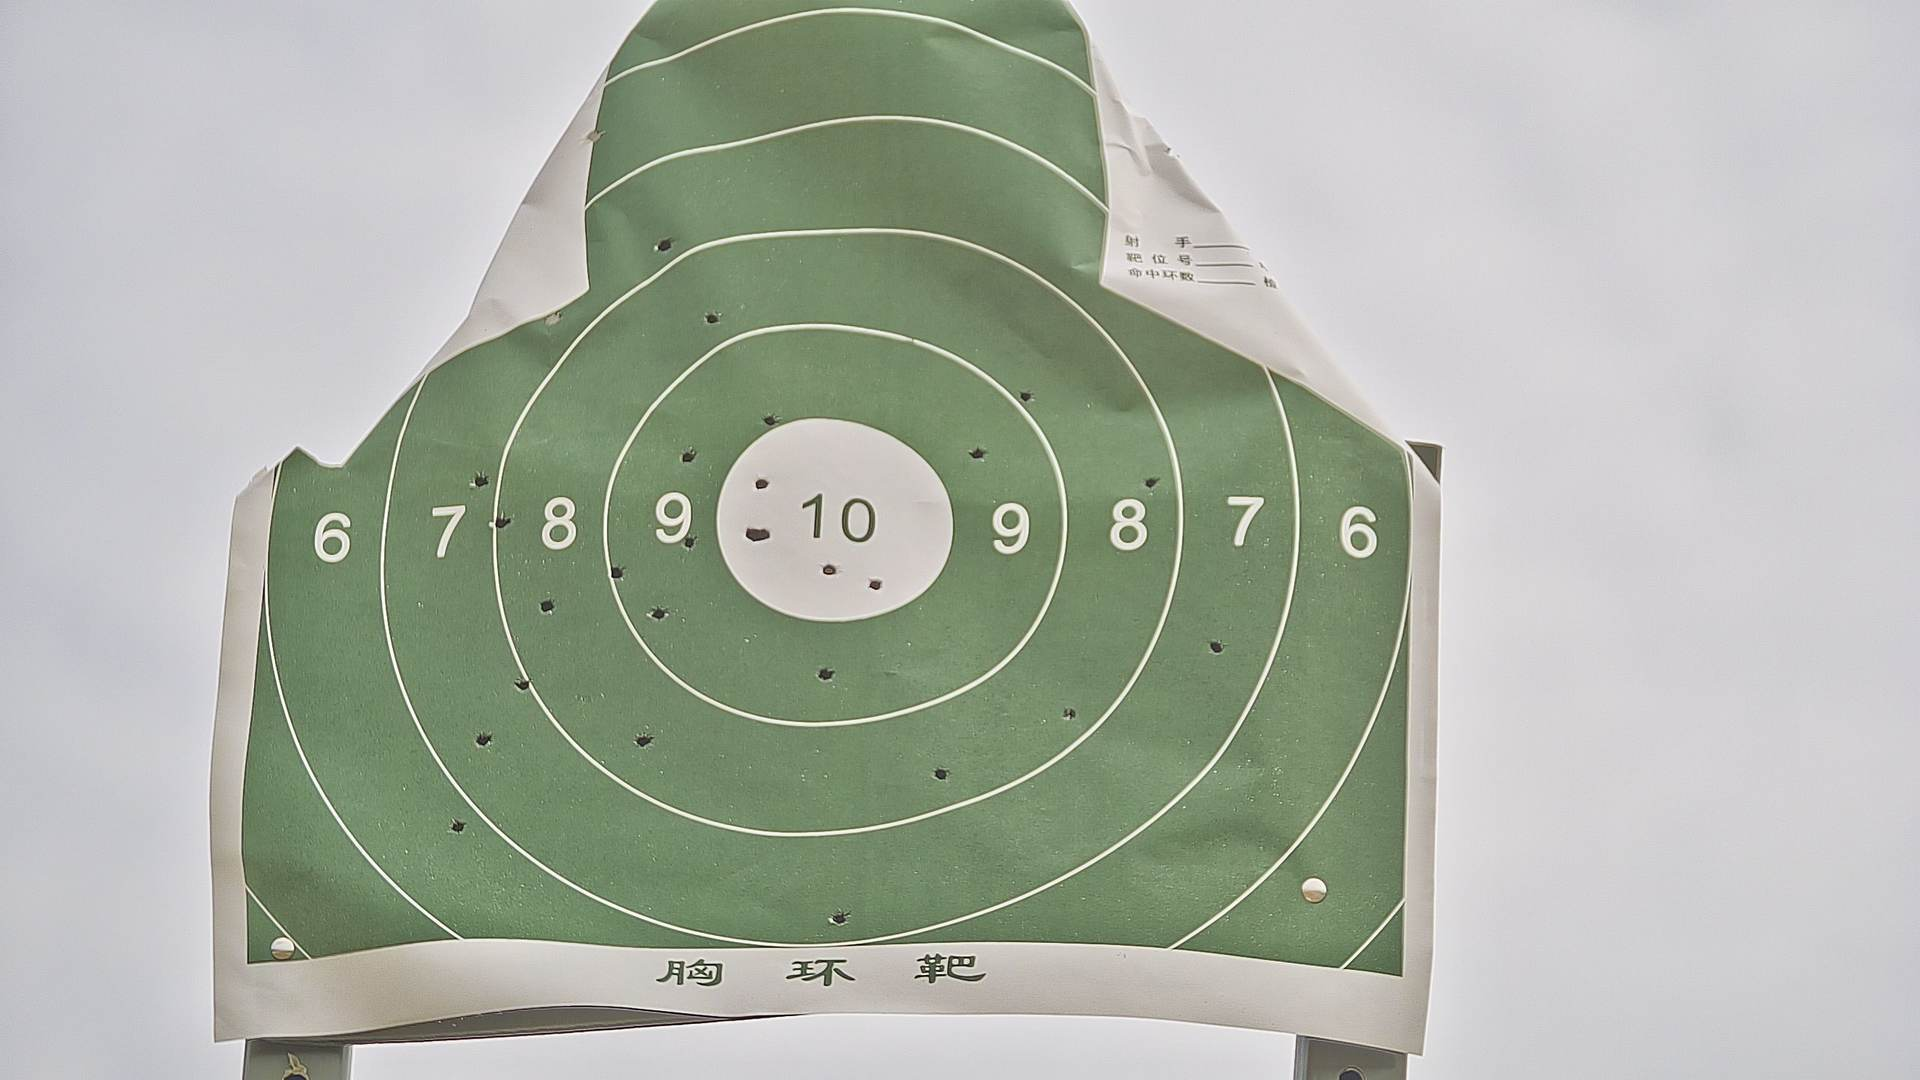hole: (469, 471, 489, 489), (492, 512, 512, 530), (514, 676, 535, 694), (608, 560, 625, 580), (473, 731, 495, 746), (633, 733, 655, 746), (538, 597, 555, 615), (829, 910, 848, 926), (703, 311, 723, 326), (649, 607, 669, 621), (820, 560, 836, 578), (932, 765, 948, 782), (654, 237, 673, 252), (680, 448, 699, 463), (818, 666, 836, 680), (971, 446, 986, 462), (452, 816, 467, 833), (584, 129, 603, 142), (545, 313, 563, 326), (682, 533, 696, 549), (868, 576, 884, 591), (745, 526, 758, 543), (764, 414, 778, 429), (1145, 475, 1160, 488), (1208, 640, 1224, 653), (758, 527, 770, 545), (756, 477, 770, 491), (1018, 390, 1033, 404), (1062, 707, 1076, 720)
kernel: (829, 517, 833, 520)
target: (240, 1, 1415, 984)
ten: (713, 415, 955, 624)
